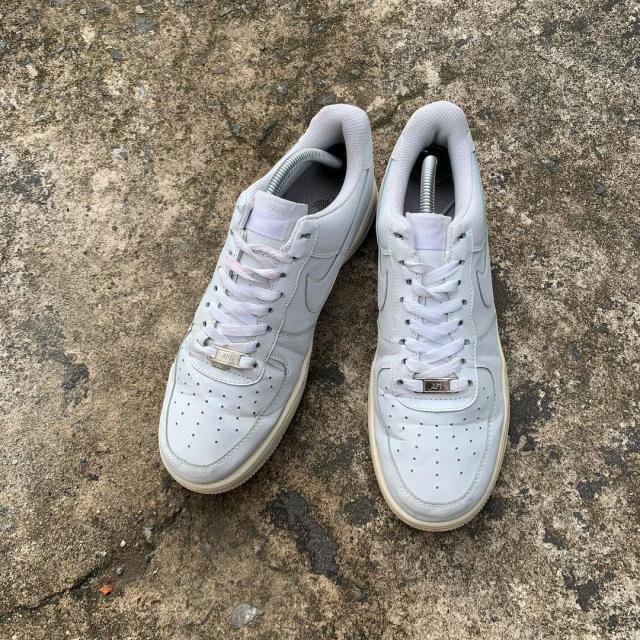nike fake air force: (156, 100, 379, 494), (368, 102, 514, 536)
